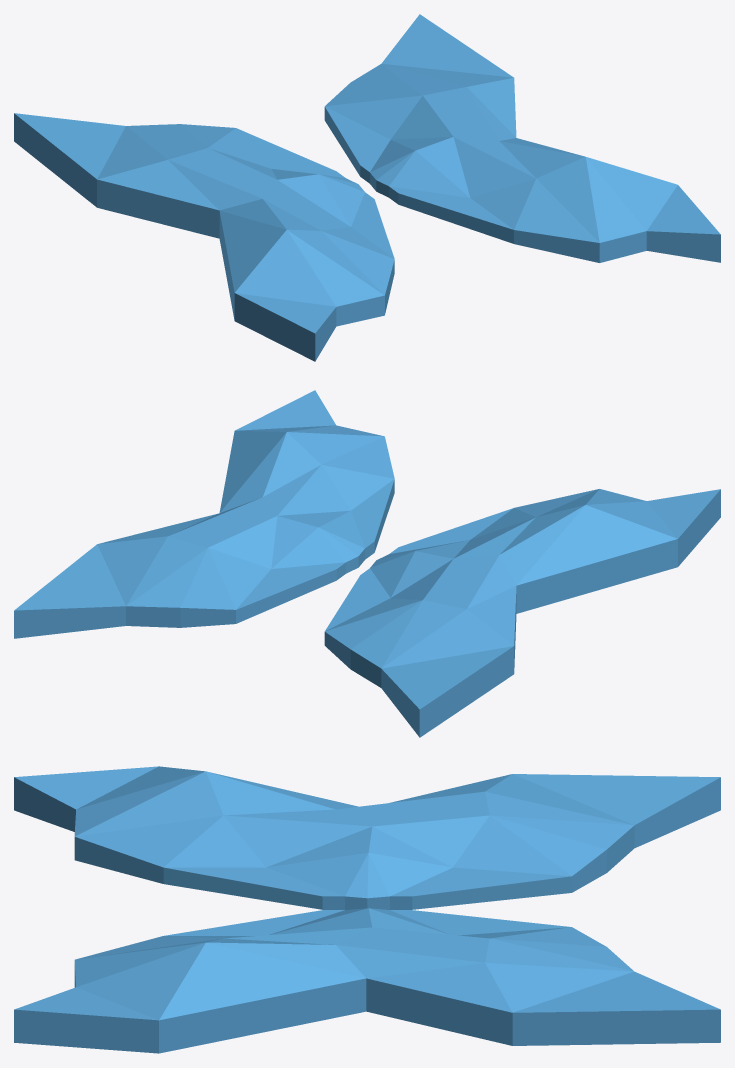
The model's file is butterflySplit.fbx.
3 views of the same model, one above another, from view 1: azimuth 30°, elevation 25°; view 2: azimuth 150°, elevation 25°; view 3: azimuth 270°, elevation 25° (orthographic). The views are drawn at different scales.
Visible parts, largest first — view 1: Wing_01, Wing_03, Wing_04, Wing_02; view 2: Wing_02, Wing_04, Wing_03, Wing_01; view 3: Wing_02, Wing_03, Wing_04, Wing_01.
Part boxes in pixels (<box>): Wing_01: <box>376,137,720,262</box>; Wing_03: <box>219,174,394,361</box>; Wing_04: <box>14,113,357,238</box>; Wing_02: <box>324,14,516,191</box>; Wing_02: <box>14,497,358,638</box>; Wing_04: <box>324,551,516,737</box>; Wing_03: <box>377,489,720,613</box>; Wing_01: <box>219,390,394,567</box>; Wing_02: <box>336,908,720,1045</box>; Wing_03: <box>14,766,372,909</box>; Wing_04: <box>336,774,720,909</box>; Wing_01: <box>14,908,372,1053</box>.
Size of the model in its own units: 14.21 by 1.82 by 16.72.
